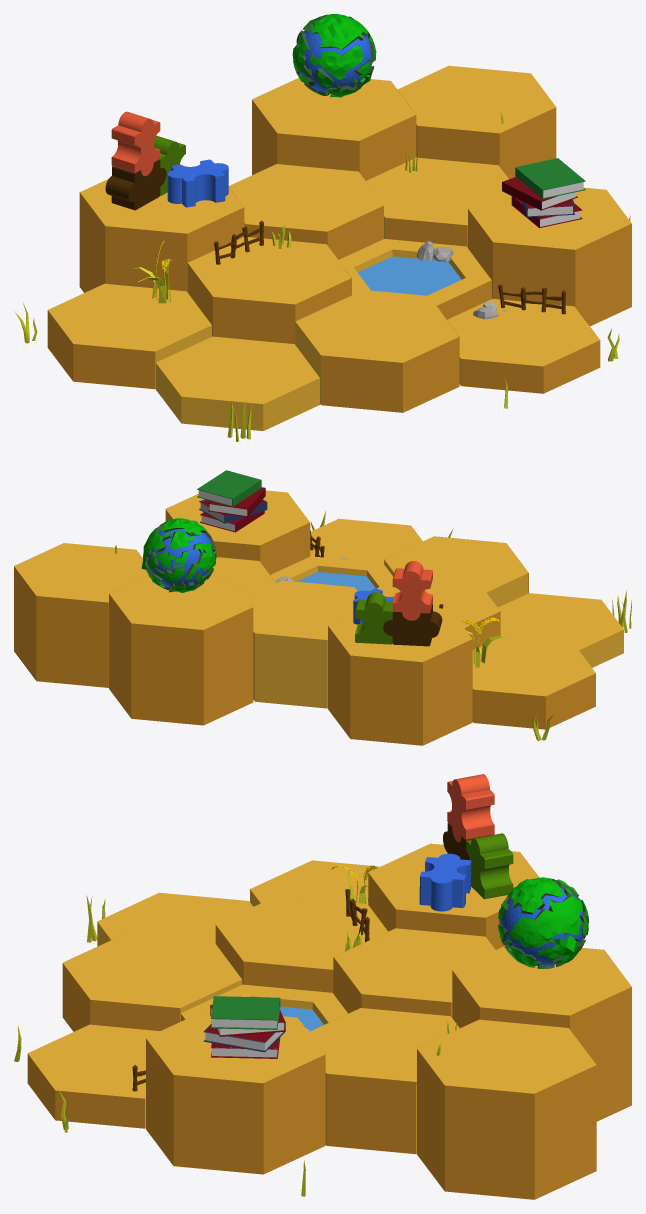
File: AboutModels.glb
3 views of the same model, one above another, from view 1: azimuth 30°, elevation 25°; view 2: azimuth 150°, elevation 25°; view 3: azimuth 270°, elevation 25° (orthographic). The views are drawn at different scales.
Visible parts, largest first — view 1: Cylinder, earth, back, Book, puz1, puz2, puz3, puz4; view 2: Cylinder, earth, Book, puz1, puz4, back, puz3; view 3: Cylinder, earth, Book, puz1, puz2, puz4, back.
Part boxes in pixels (x1,y1,x2,y2): Cylinder: (47,65,631,430); earth: (292,14,376,97); back: (14,112,630,441); Book: (502,158,585,228); puz1: (111,111,160,176); puz2: (167,159,228,207); puz3: (105,159,166,210); puz4: (154,135,185,195); Cylinder: (14,490,623,745); earth: (141,518,216,592); Book: (197,470,267,532); puz1: (392,561,432,620); puz4: (355,592,392,644); back: (115,511,631,740); puz3: (383,604,442,646); Cylinder: (27,843,631,1199); earth: (498,877,588,968); Book: (203,996,285,1058); puz1: (447,774,494,842); puz2: (419,853,471,911); puz4: (466,833,513,899); back: (14,865,456,1196).
Bounding box in the file's own units: 7.77 × 2.62 × 6.72.
